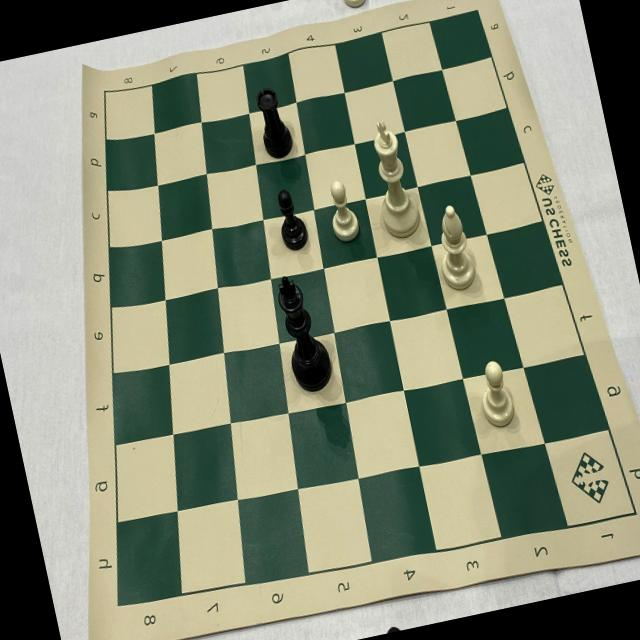black-king: (266, 266, 341, 402)
black-pawn: (271, 186, 313, 258)
black-rook: (249, 80, 300, 164)
white-bishop: (425, 198, 484, 296)
white-king: (359, 116, 424, 246)
white-pawn: (471, 354, 520, 433), (320, 172, 365, 247)
